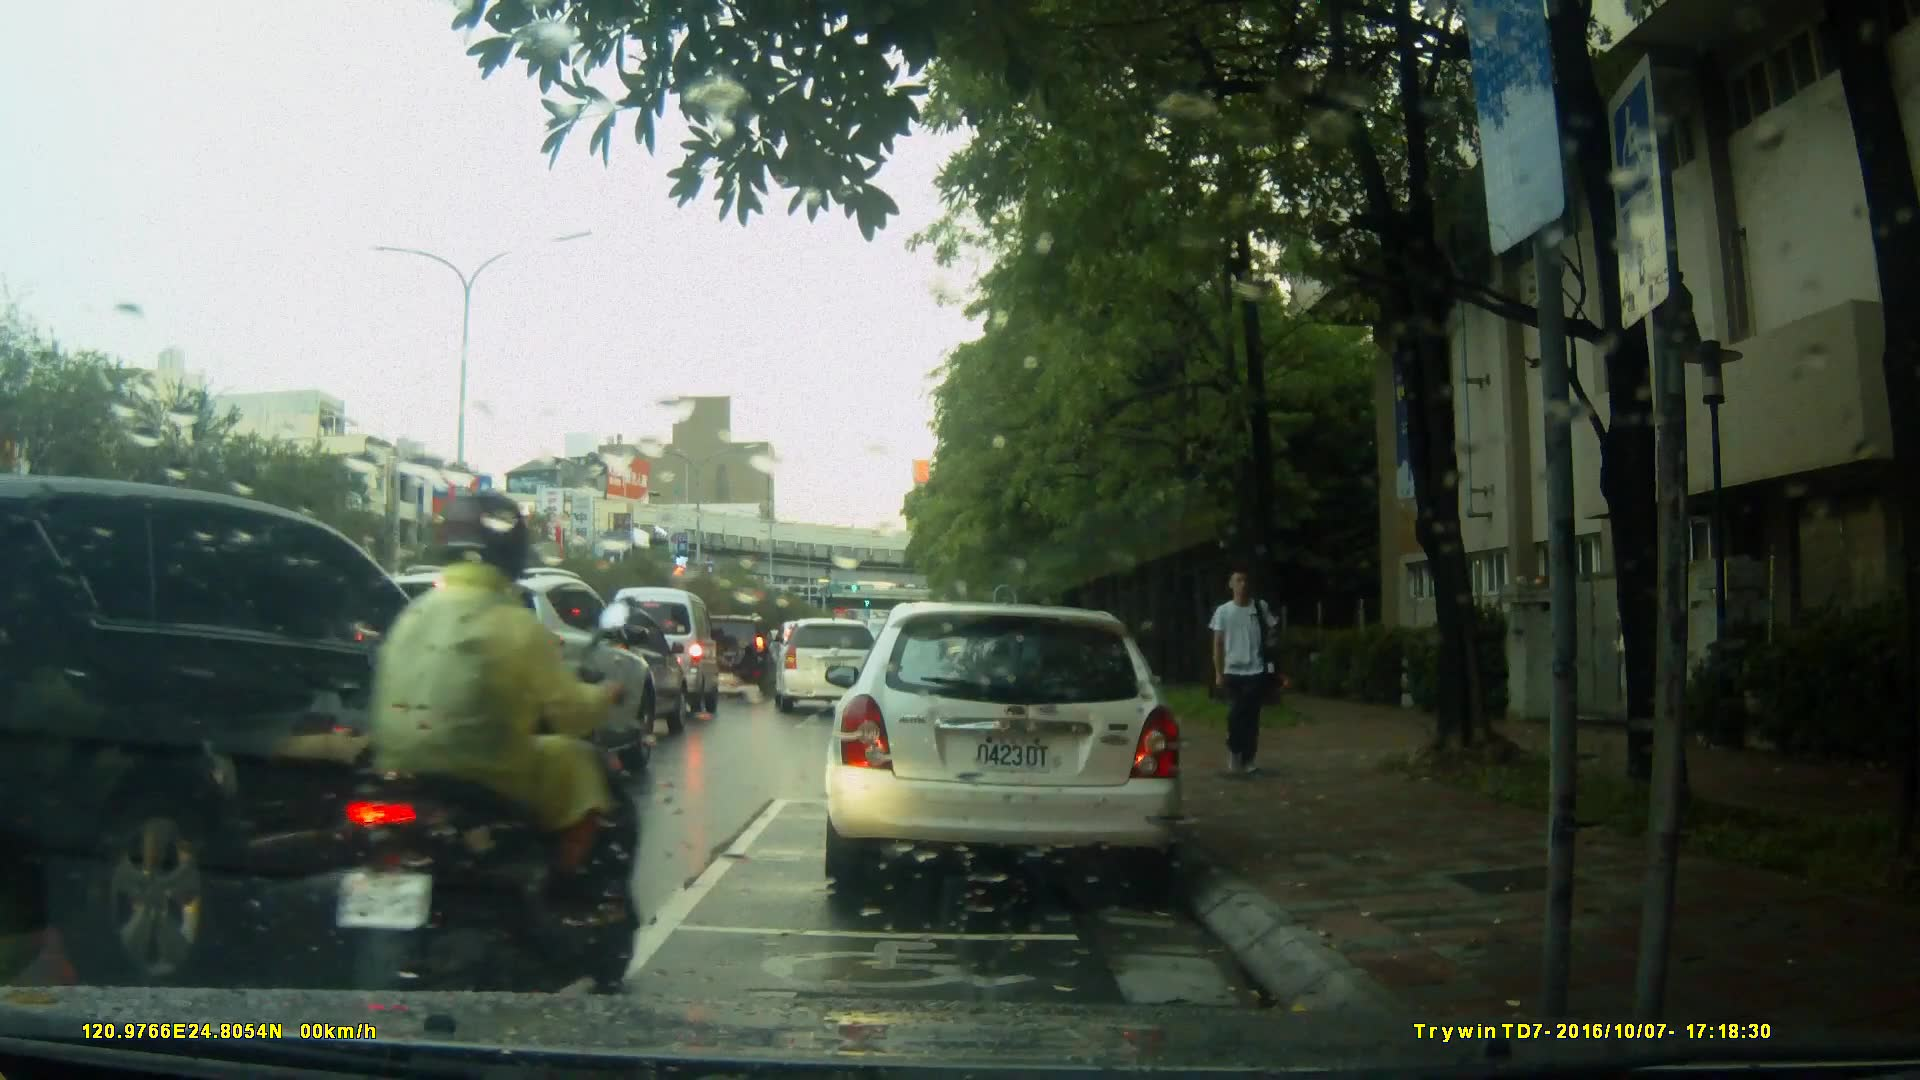pedestrian: (1203, 564, 1287, 793)
rider: (332, 496, 636, 1017)
vehicle: (1, 472, 537, 987), (820, 602, 1188, 898), (347, 563, 661, 790), (539, 602, 697, 735), (601, 585, 724, 721), (772, 617, 887, 714), (684, 611, 775, 698)
